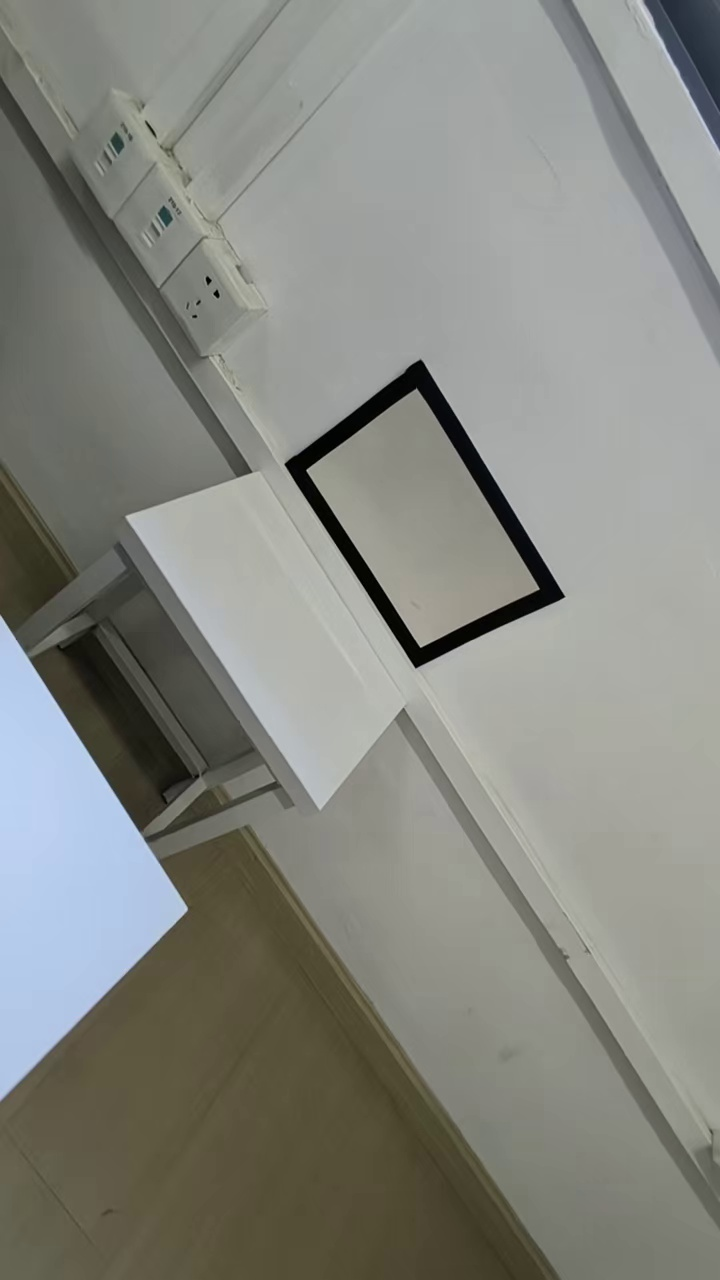board: (286, 360, 561, 665)
